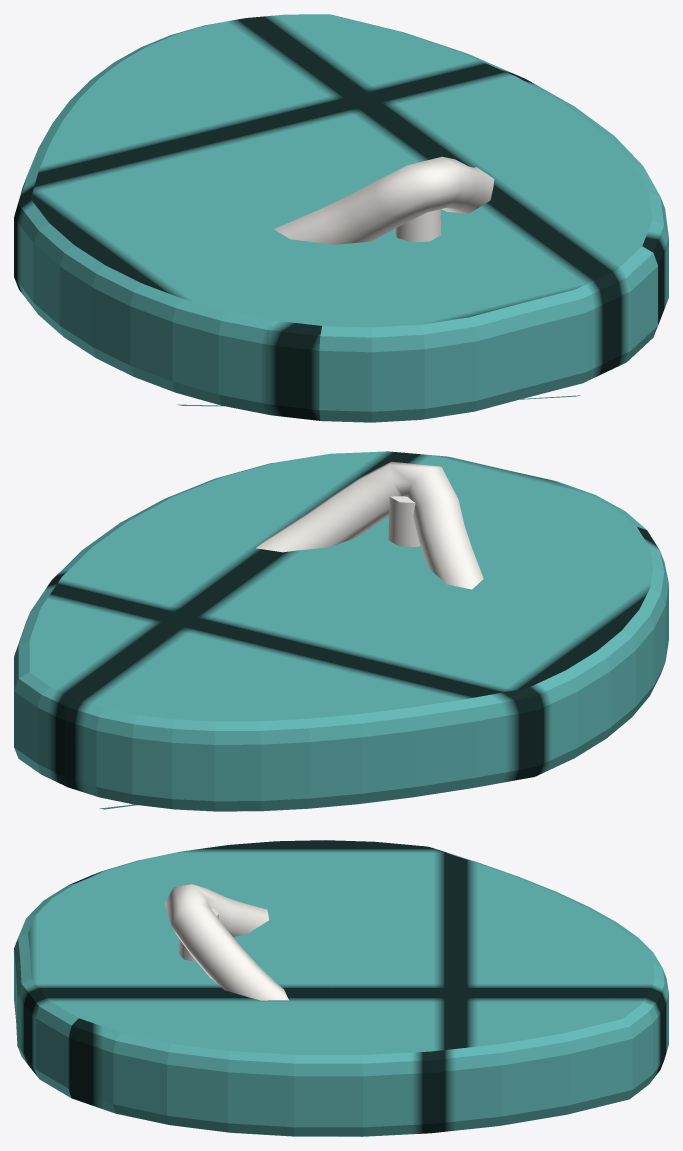
The model's file is chancla.glb.
3 renders of one model, top to bottom at view 1: azimuth 30°, elevation 25°; view 2: azimuth 150°, elevation 25°; view 3: azimuth 270°, elevation 25°, orthographic. The views are drawn at different scales.
Parts seen in each view (by area): view 1: chancla; view 2: chancla; view 3: chancla.
Part boxes in pixels (box(x1,y1,x2,y2)): chancla: box(14, 14, 668, 422); chancla: box(14, 451, 668, 811); chancla: box(14, 840, 668, 1136).
Size of the model in its own units: 0.1903 by 0.0608 by 0.2323.
2 materials, 1 textured.
